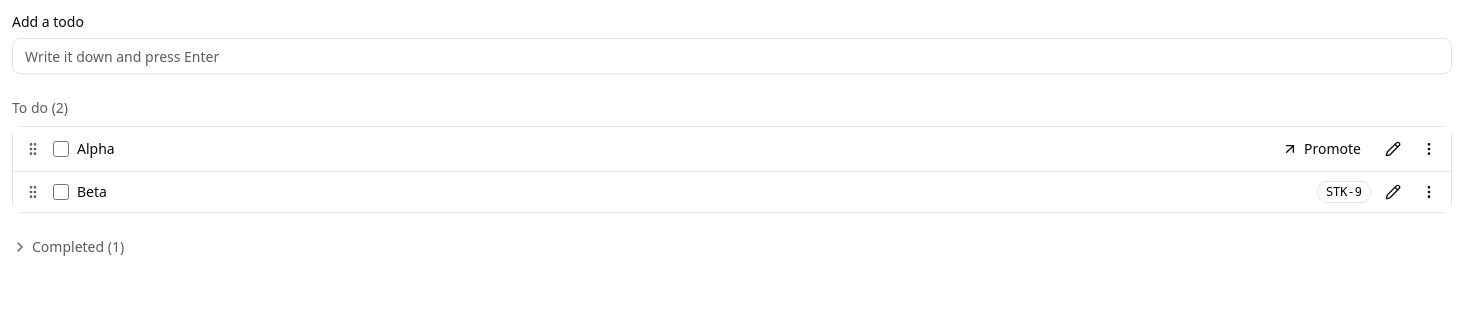
it: TodoList (MY-2/3) › collapses completed todos into a Completed section
The image size is (1464, 324).
Expected: the field labelled "Gamma" is not shown
Click the button "Completed (1)" at (68, 247), box [12,237,124,257]
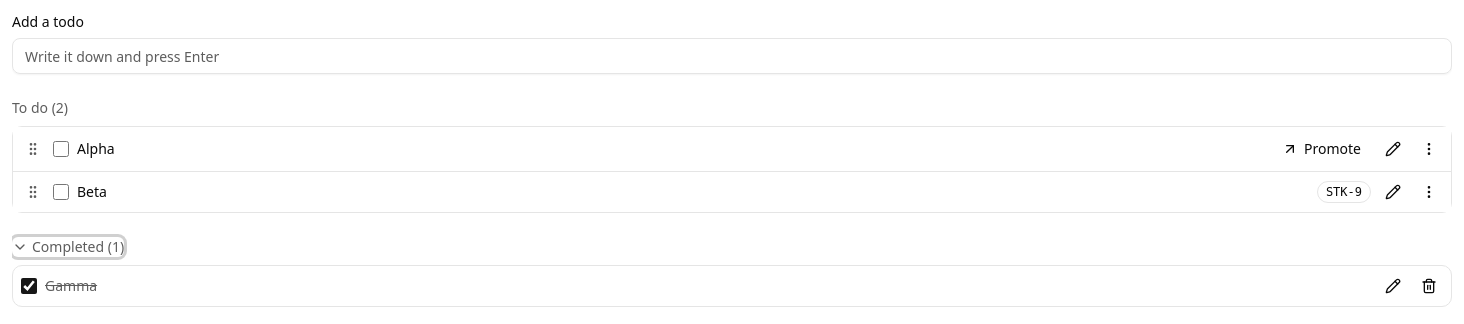
Result: the checkbox labelled "Gamma" is shown at [21,278,37,294]
